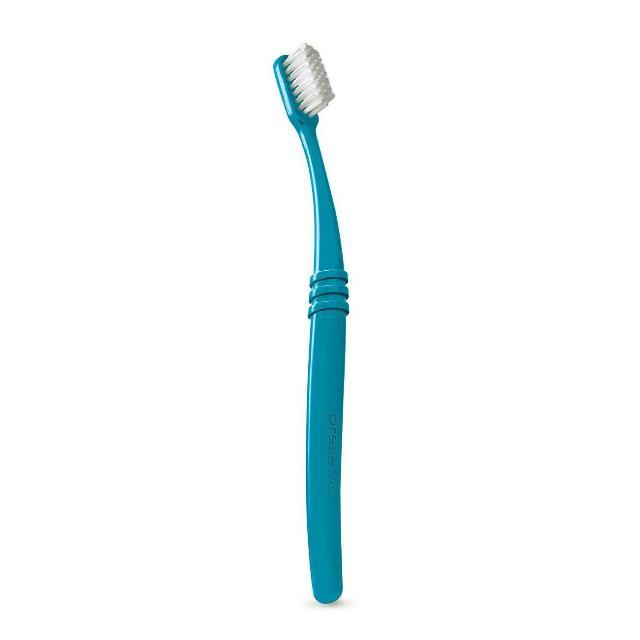toothbrush: (218, 37, 408, 599)
